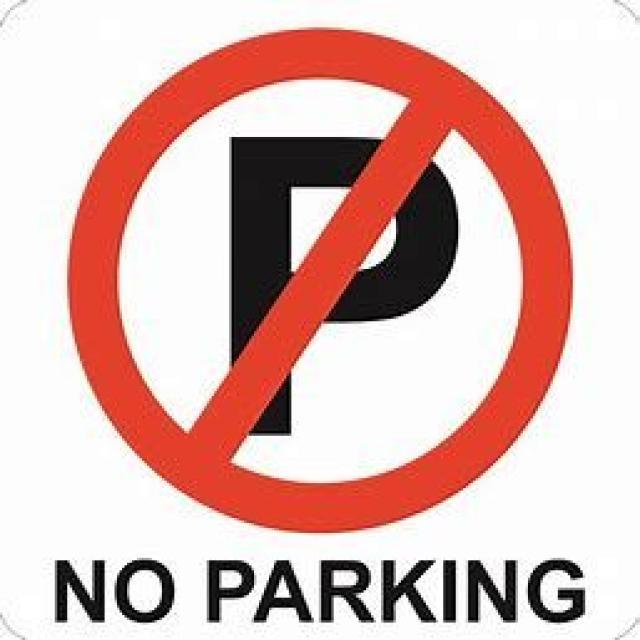no parking: (64, 25, 574, 532)
